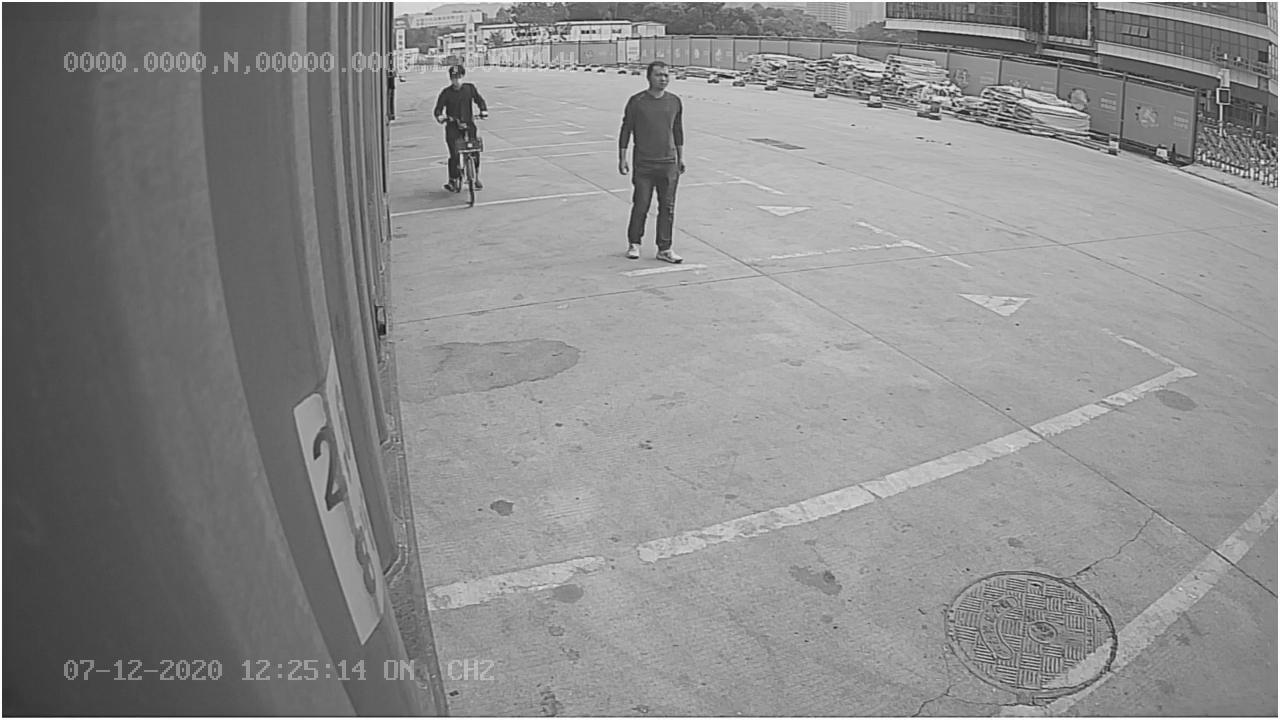person: (616, 56, 688, 265)
